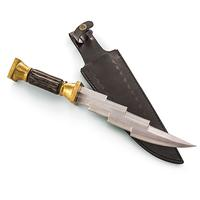knife: (6, 55, 198, 152)
